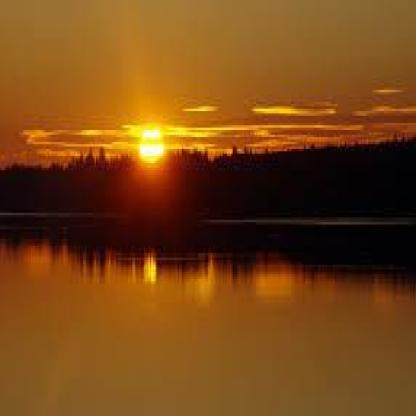other: (136, 110, 164, 177)
